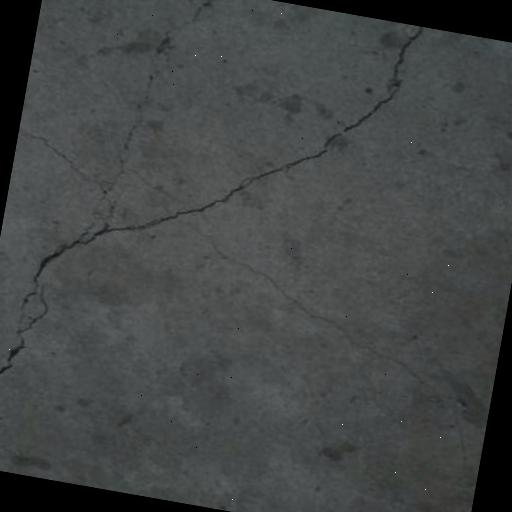spalling: (0, 24, 444, 395)
